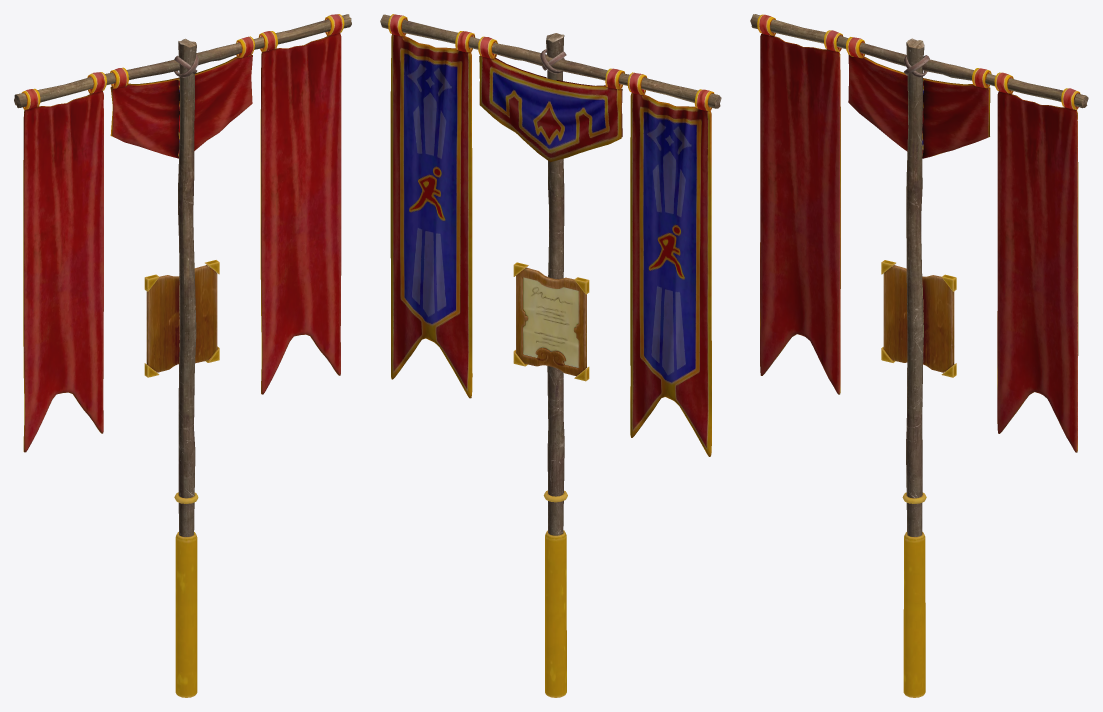
3 renders of one model, left to right at view 1: azimuth 30°, elevation 25°; view 2: azimuth 150°, elevation 25°; view 3: azimuth 330°, elevation 25°, orthographic.
Parts seen in each view (by area): view 1: SM_Agility_Flag_LOD0; view 2: SM_Agility_Flag_LOD0; view 3: SM_Agility_Flag_LOD0.
Boxes of the visible parts, x1,y1,x2,y2 form: SM_Agility_Flag_LOD0: (14,14,351,697); SM_Agility_Flag_LOD0: (380,14,721,697); SM_Agility_Flag_LOD0: (750,14,1088,697).
Bounding box in the file's own units: 2.71 × 5.07 × 0.2069.
4 materials, 4 textured.
